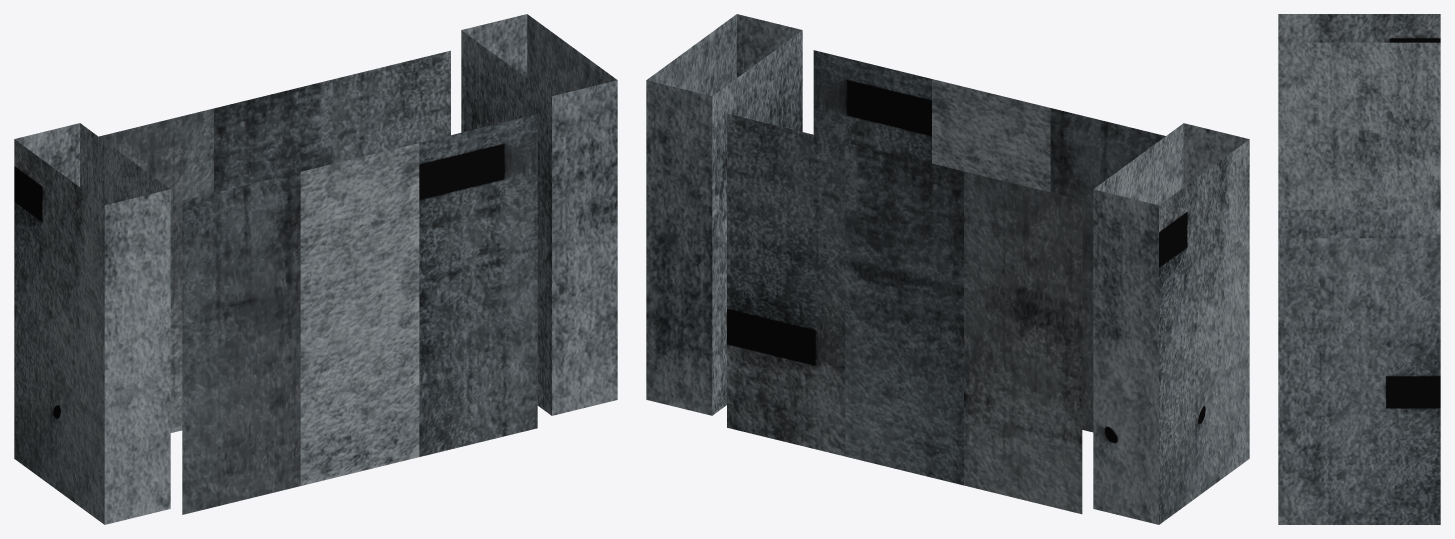
Rendered from store_97.obj.
3 renders of one model, left to right at view 1: azimuth 30°, elevation 25°; view 2: azimuth 150°, elevation 25°; view 3: azimuth 270°, elevation 25°, orthographic. The views are drawn at different scales.
Size of the model in its own units: 191 by 117 by 58.37.
